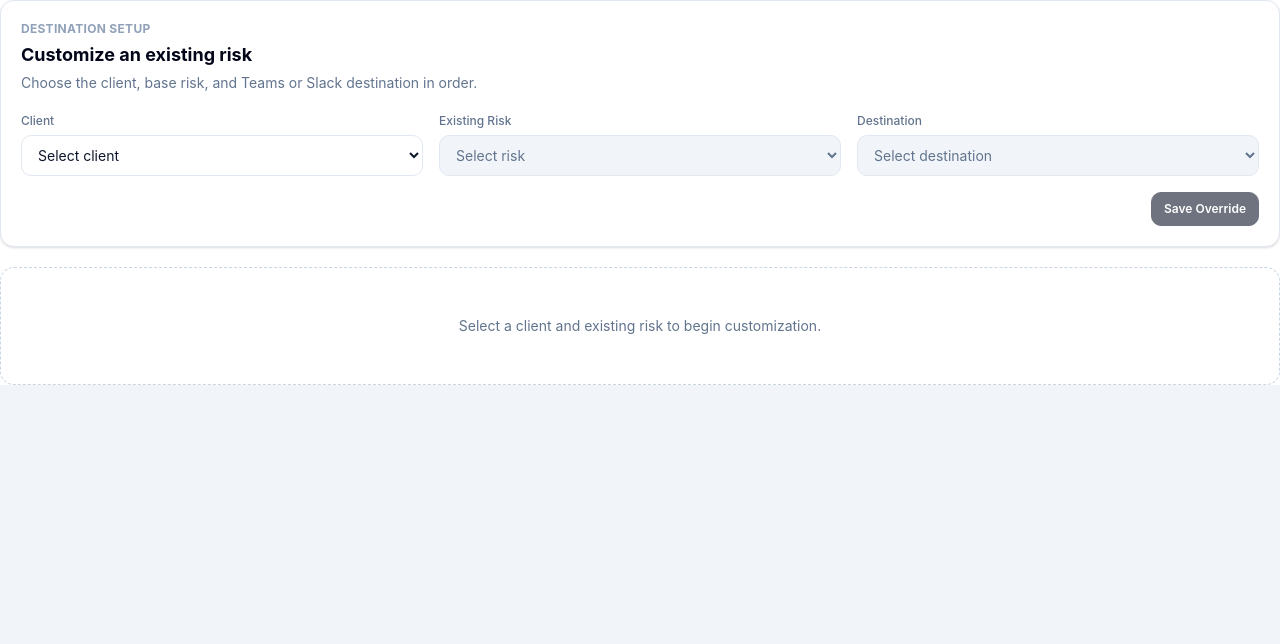
Test: CustomizeExistingRisk › selects an available destination from the active customization list
Select "Acme" in the dropdown labelled "Client" at point(222, 156), box [21, 135, 423, 176]
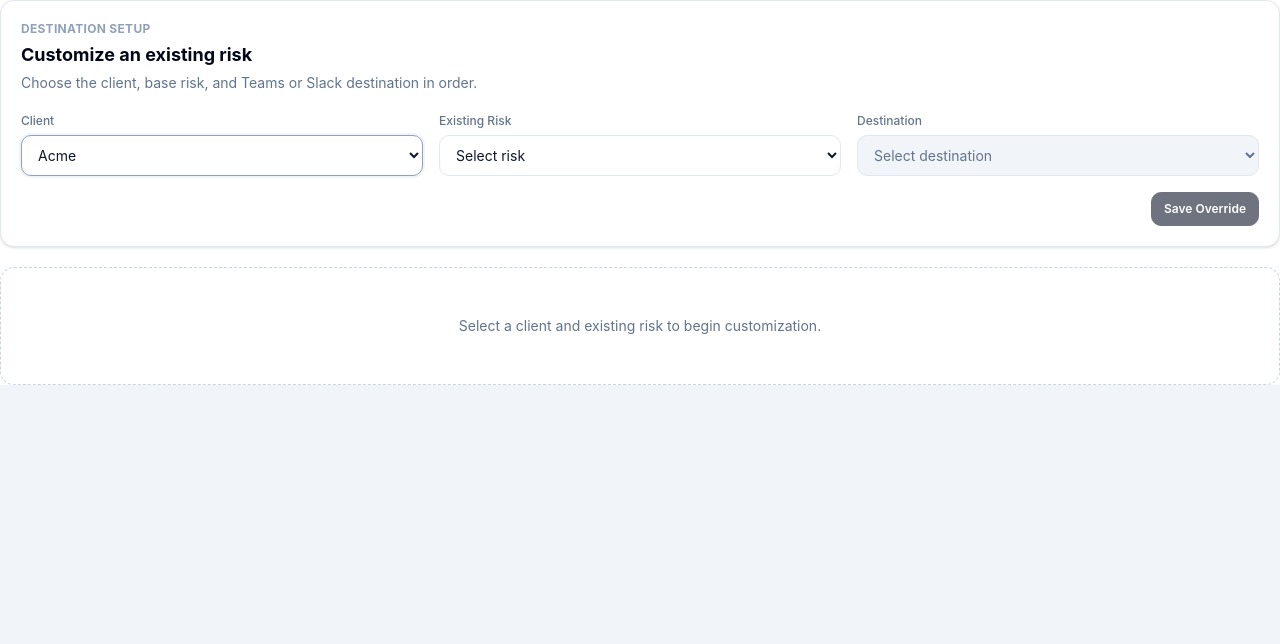
Select "Base Risk Title · RSK-1 · high" in the dropdown labelled "Existing Risk" at point(640, 156), box [439, 135, 841, 176]
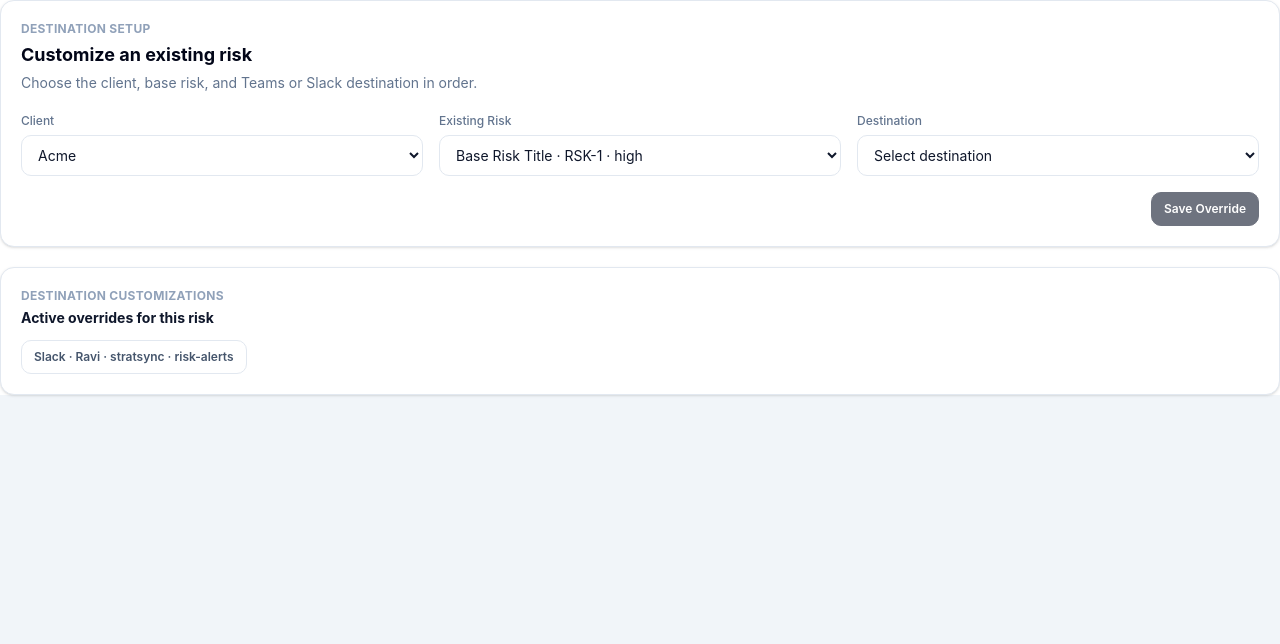
Click the button "Slack · Ravi · stratsync · risk-alerts" at point(134, 357), box [21, 340, 247, 374]
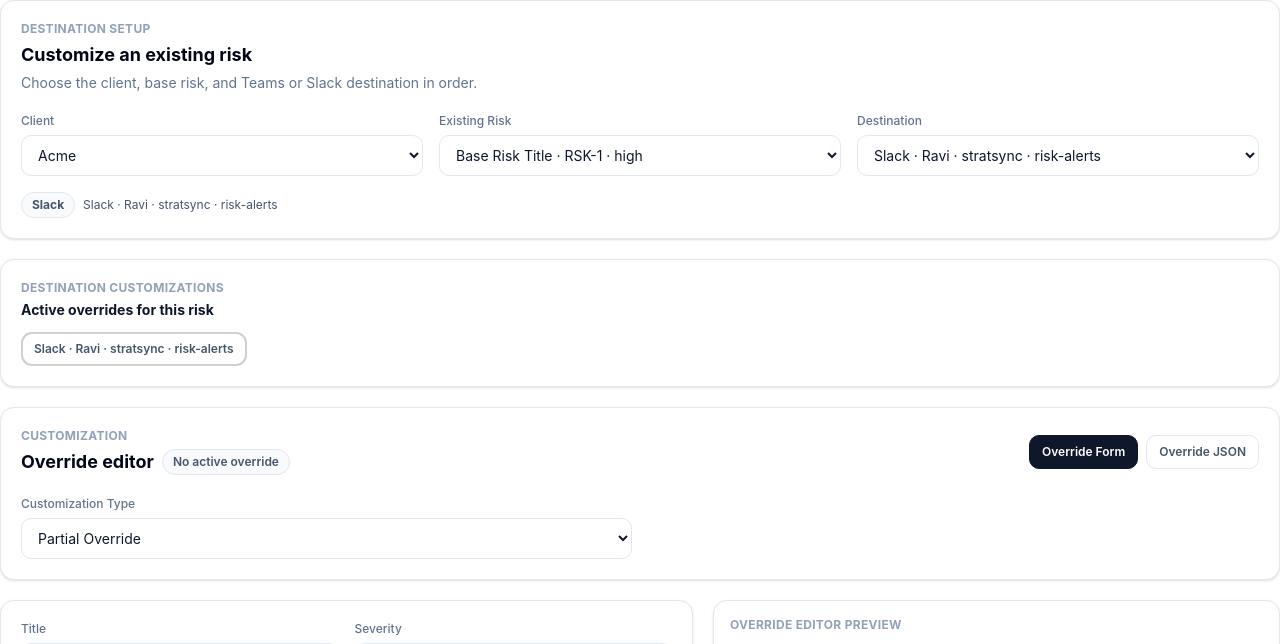
expect the dropdown labelled "Destination" shows "Slack · Ravi · stratsync · risk-alerts": met, box [857, 135, 1259, 176]
